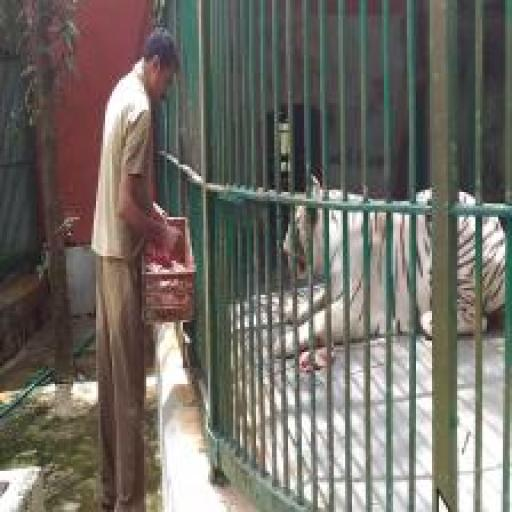Tiger: (274, 176, 506, 361)
